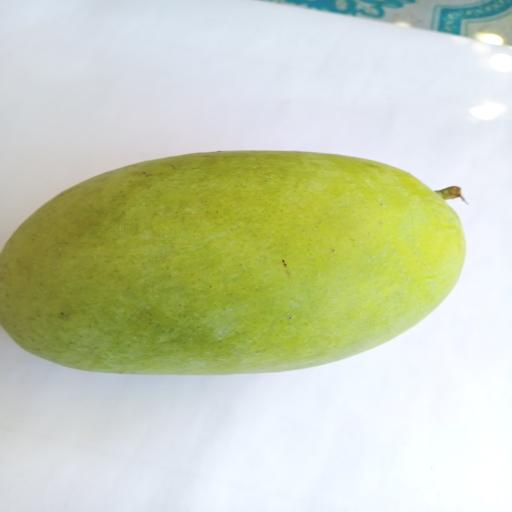mango-unripe: (0, 137, 487, 388)
